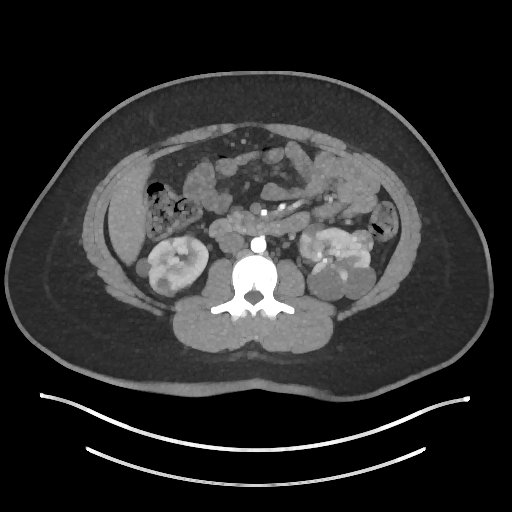Lesion: (351, 225, 374, 256)
